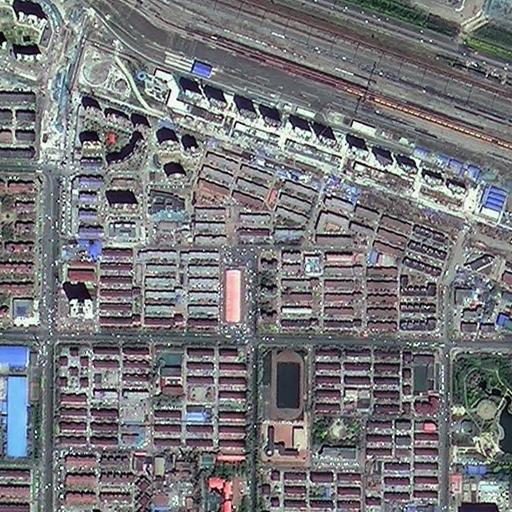school: (255, 340, 311, 466)
